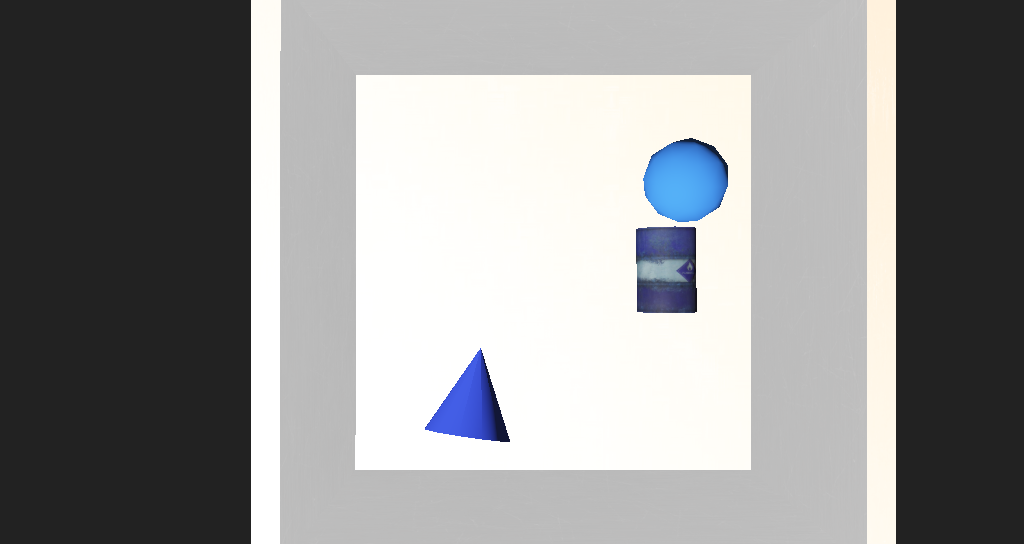cone: (569, 243, 616, 291)
cylinder: (391, 298, 485, 370)
sphere: (576, 196, 637, 243)
